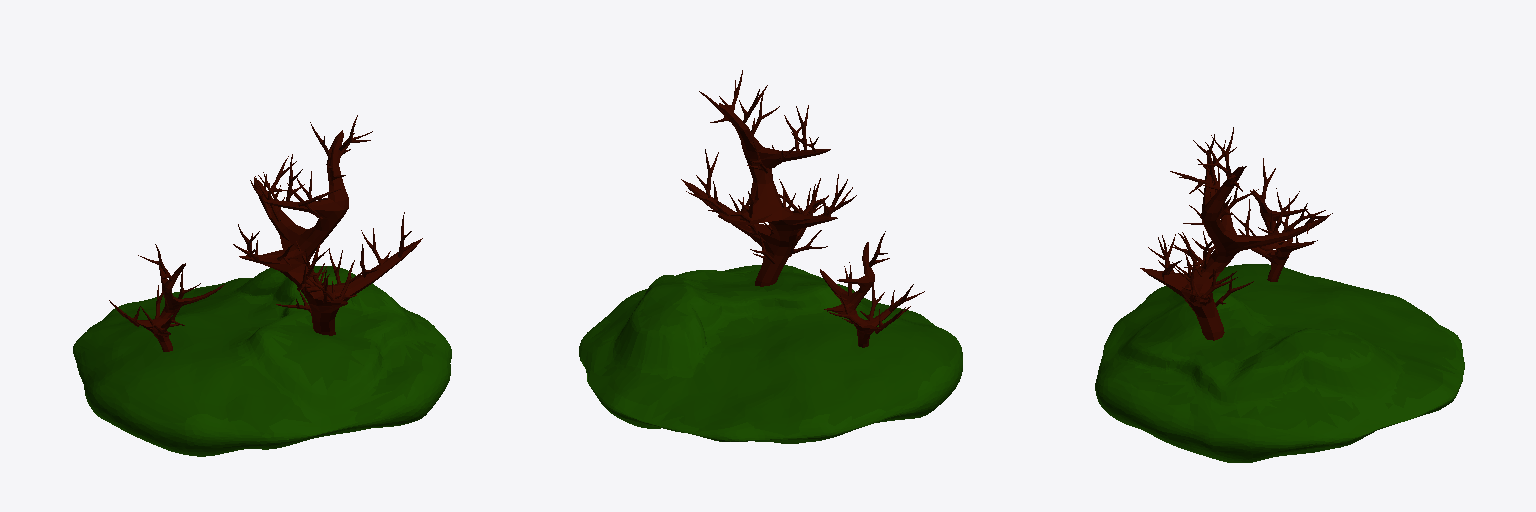
Rendered from ground.obj.
3 views of the same model, side by side, from view 1: azimuth 30°, elevation 25°; view 2: azimuth 150°, elevation 25°; view 3: azimuth 270°, elevation 25° (orthographic).
Parts seen in each view (by area): view 1: Cube.001_Cube.001; view 2: Cube.001_Cube.001; view 3: Cube.001_Cube.001.
Part boxes in pixels (bbox=[...]): Cube.001_Cube.001: bbox=[73, 115, 451, 456]; Cube.001_Cube.001: bbox=[579, 70, 962, 443]; Cube.001_Cube.001: bbox=[1095, 127, 1464, 462].
Size of the model in its own units: 1.97 by 1.63 by 1.89.